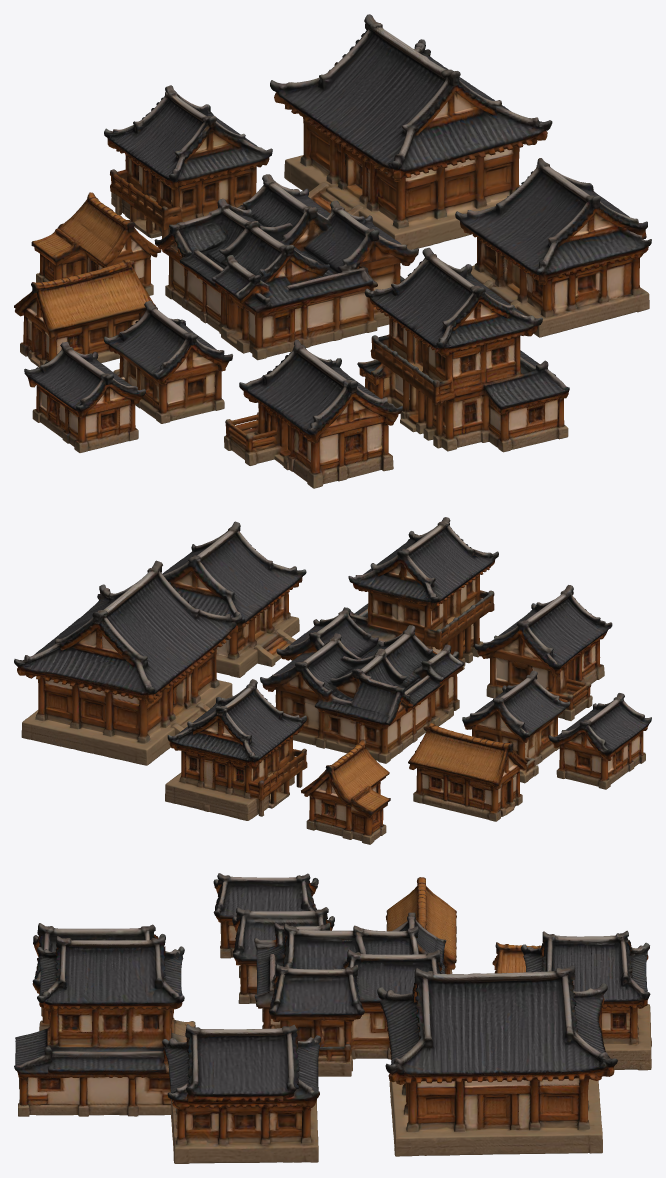
The model's file is Medieval Village (East Asian).fbx.
3 views of the same model, one above another, from view 1: azimuth 30°, elevation 25°; view 2: azimuth 150°, elevation 25°; view 3: azimuth 270°, elevation 25° (orthographic). The views are drawn at different scales.
Visible parts, largest first — view 1: tripo_node_a1ea4282; view 2: tripo_node_a1ea4282; view 3: tripo_node_a1ea4282.
Boxes of the visible parts, x1,y1,x2,y2 form: tripo_node_a1ea4282: [14, 14, 651, 488]; tripo_node_a1ea4282: [14, 517, 651, 844]; tripo_node_a1ea4282: [14, 873, 651, 1163].
Size of the model in its own units: 1 by 0.3299 by 0.9948.
